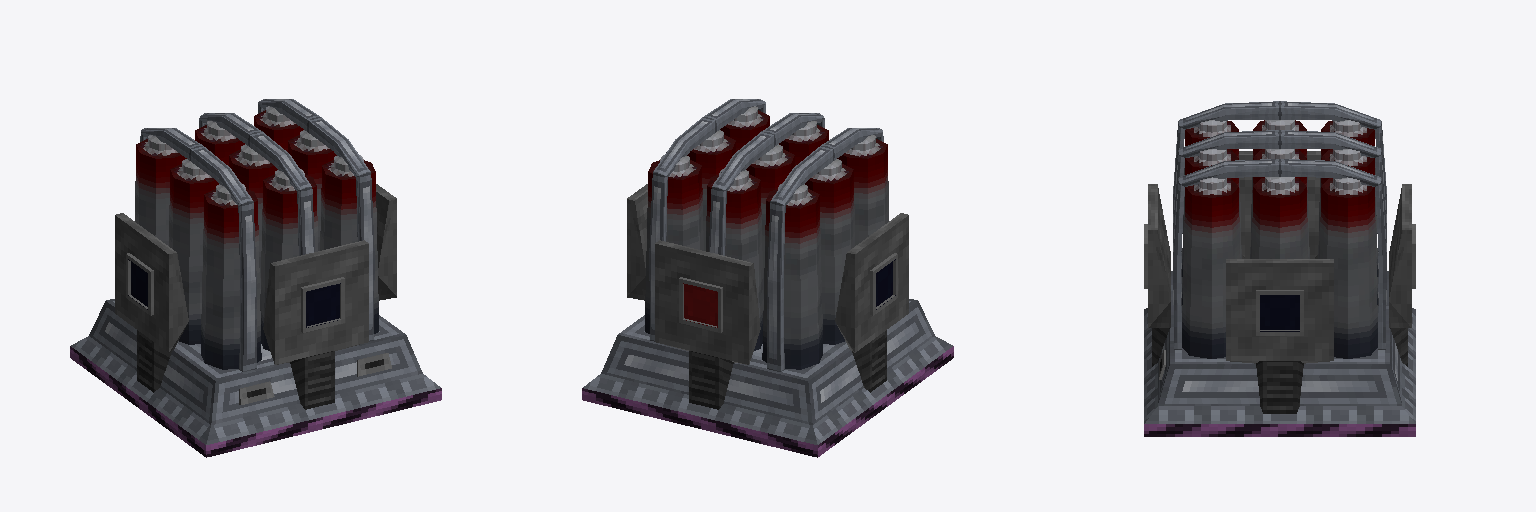
The picture shows the model from 3 angles: view 1: azimuth 30°, elevation 25°; view 2: azimuth 150°, elevation 25°; view 3: azimuth 270°, elevation 25°; orthographic projection.
Visible parts, largest first — view 1: BatteryArray_Crusher; view 2: BatteryArray_Crusher; view 3: BatteryArray_Crusher.
Part boxes in pixels (x1,y1,x2,y2): BatteryArray_Crusher: (70, 99, 441, 457); BatteryArray_Crusher: (582, 99, 953, 457); BatteryArray_Crusher: (1144, 101, 1415, 436).
Bounding box in the file's own units: 2 × 2 × 2.
1 materials, 1 textured.